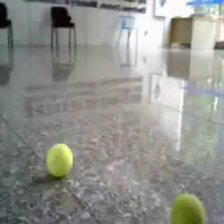tennis: (169, 194, 204, 224), (46, 143, 72, 177)
